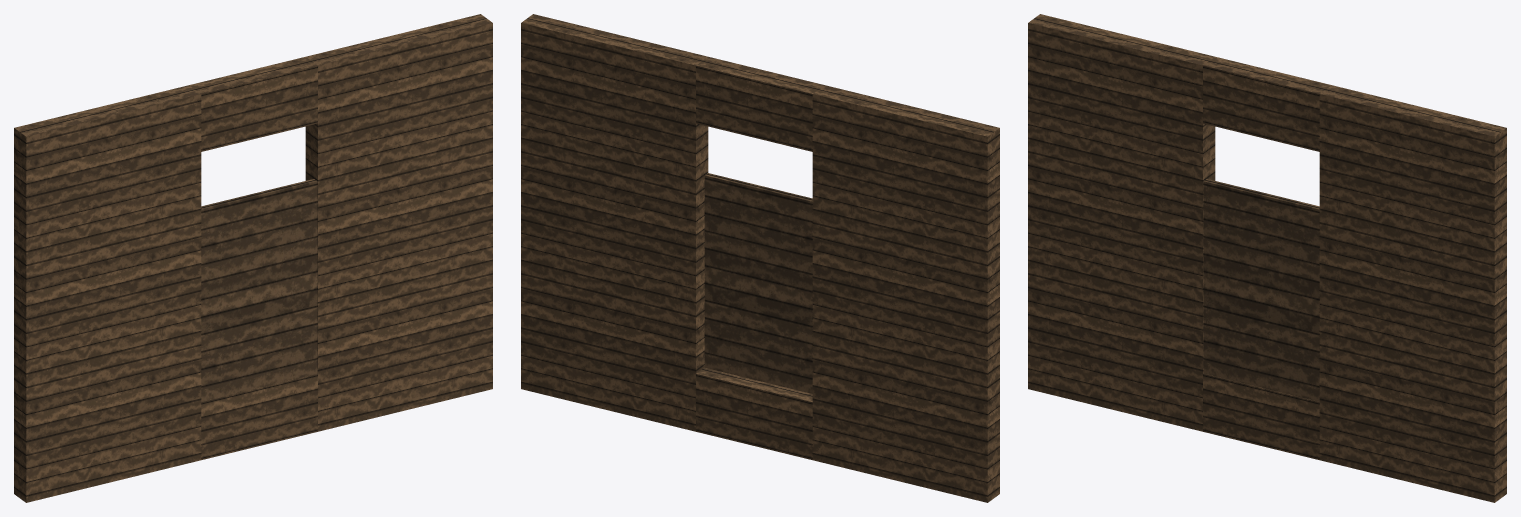
File: kit.wall.door.glb
3 views of the same model, side by side, from view 1: azimuth 30°, elevation 25°; view 2: azimuth 150°, elevation 25°; view 3: azimuth 330°, elevation 25° (orthographic).
Visible parts, largest first — view 1: kit.wall.door; view 2: kit.wall.door; view 3: kit.wall.door.
Part boxes in pixels (<box>): kit.wall.door: <box>14,14,492,502</box>; kit.wall.door: <box>521,14,999,502</box>; kit.wall.door: <box>1028,14,1506,502</box>.
Size of the model in its own units: 4 by 3 by 0.18.
2 materials, 2 textured.
